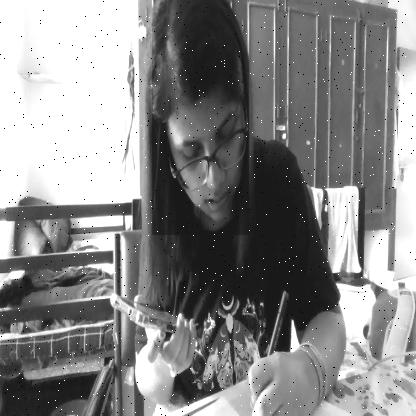Normal: (152, 0, 249, 235)
